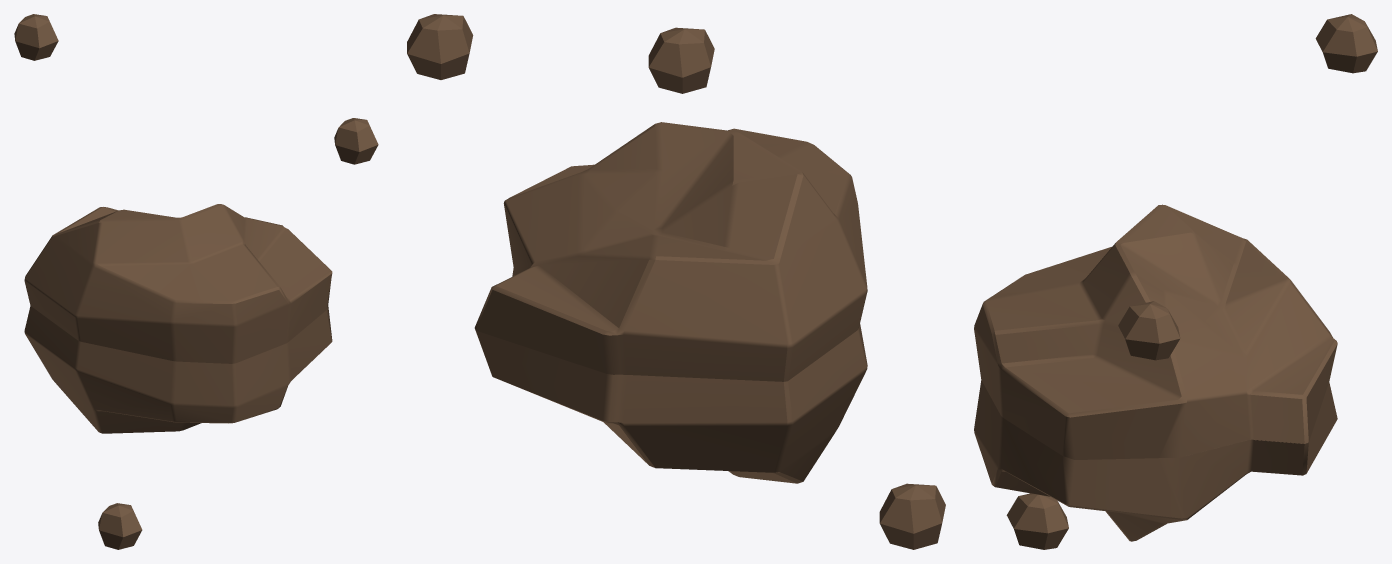
Rendered from Pickup_Earth.fbx.
3 renders of one model, left to right at view 1: azimuth 30°, elevation 25°; view 2: azimuth 150°, elevation 25°; view 3: azimuth 270°, elevation 25°, orthographic. The views are drawn at different scales.
Parts seen in each view (by area): view 1: pSphere3; view 2: pSphere3; view 3: pSphere3.
Boxes of the visible parts, box(x1,y1,x2,y2) form: pSphere3: box(14, 14, 378, 549); pSphere3: box(407, 14, 945, 549); pSphere3: box(974, 14, 1377, 549).
Bounding box in the file's own units: 30.4 × 39.29 × 26.04.
